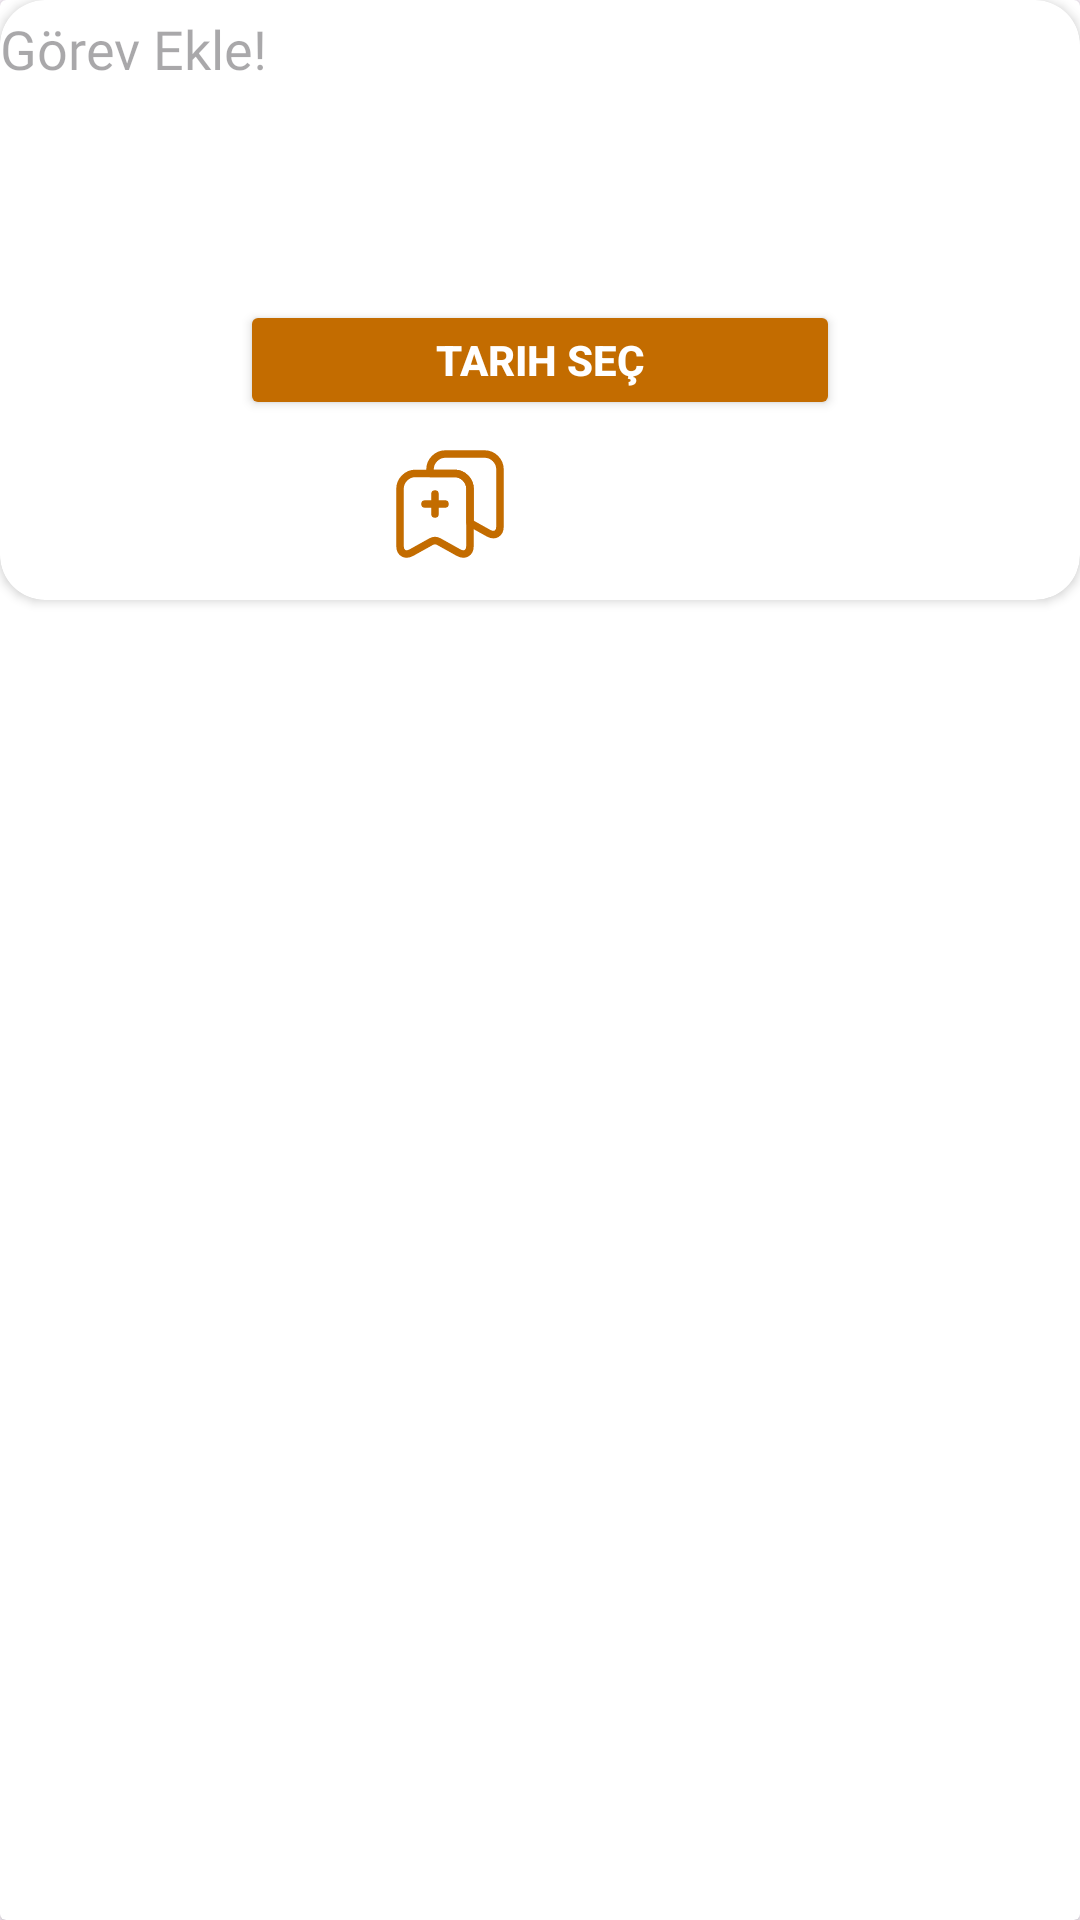

Locate icon controls on the screen. Image size 1080 × 1920, boxes as (x1, y1, x2, y2).
savebutton: (396, 450, 504, 558)
